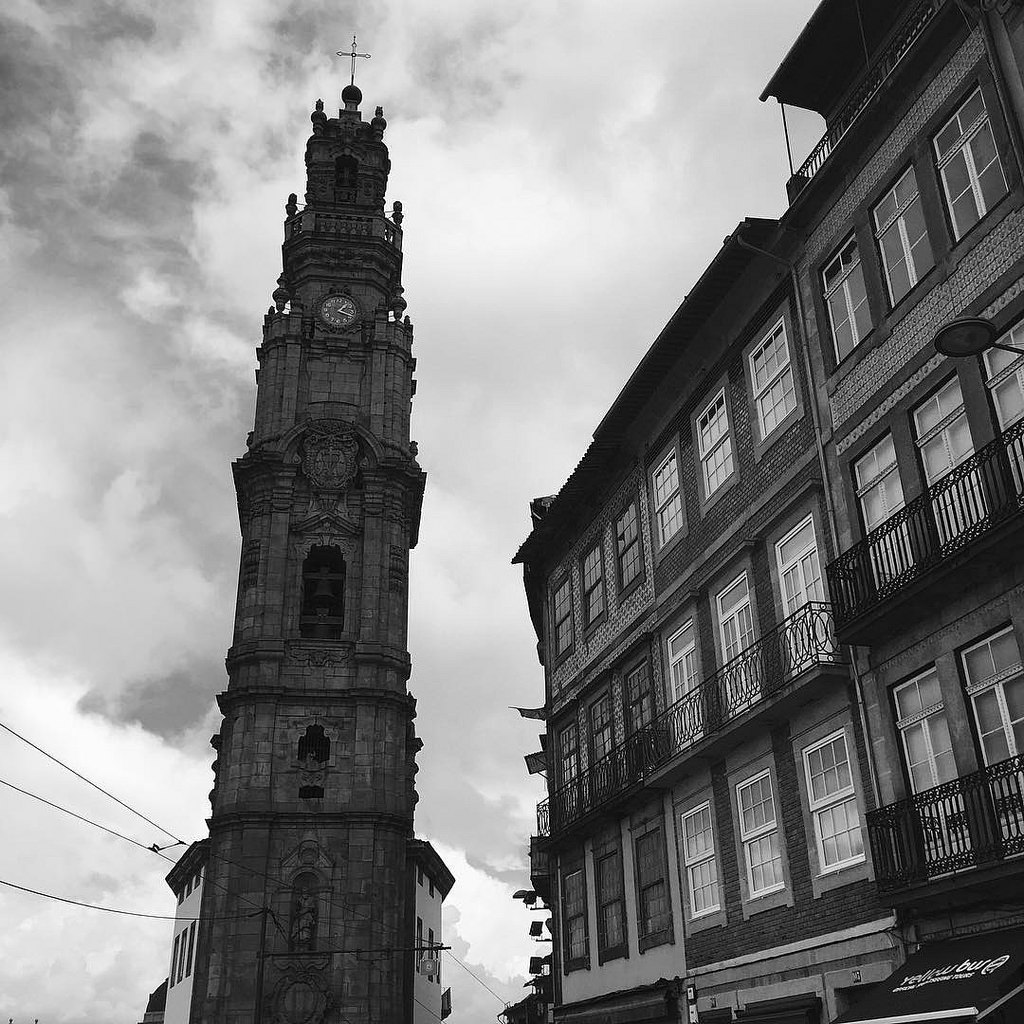clerigos: (190, 33, 428, 1023)
